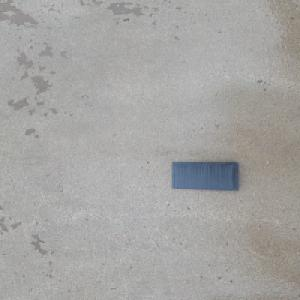PlasticPart: (169, 160, 241, 190)
